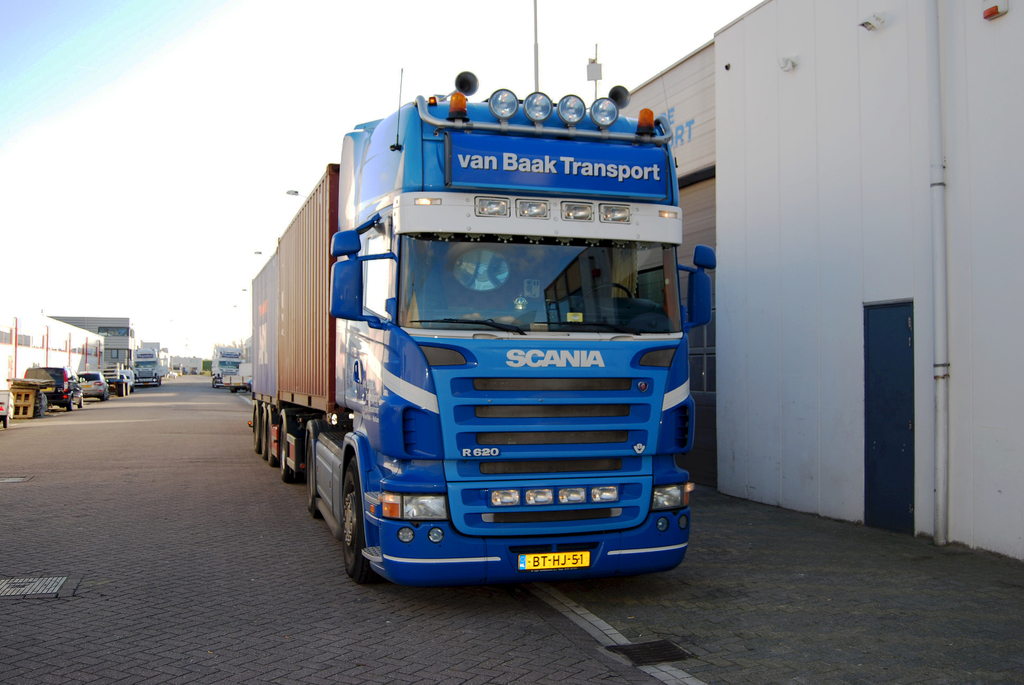car: (21, 366, 88, 410), (66, 365, 115, 408)
truck: (205, 64, 729, 599), (124, 332, 177, 388), (204, 343, 251, 386)
